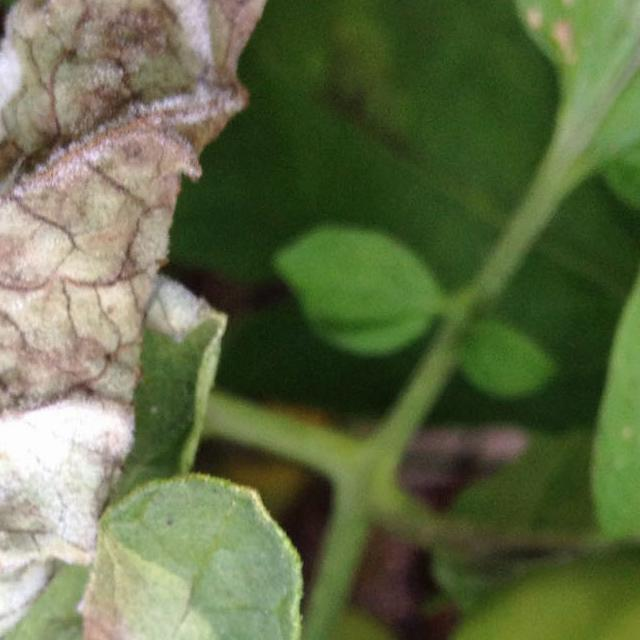Tomato leaf late blight: (462, 42, 640, 612), (0, 447, 328, 640)
